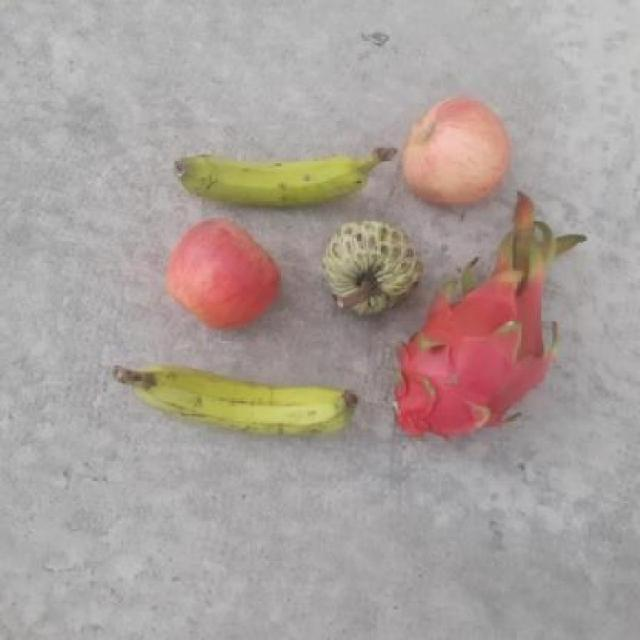apple: (396, 92, 516, 211), (163, 216, 277, 335)
banana: (133, 350, 361, 444), (172, 130, 376, 210)
dragon fruit: (378, 238, 509, 379)
sugar apple: (319, 216, 430, 319)
